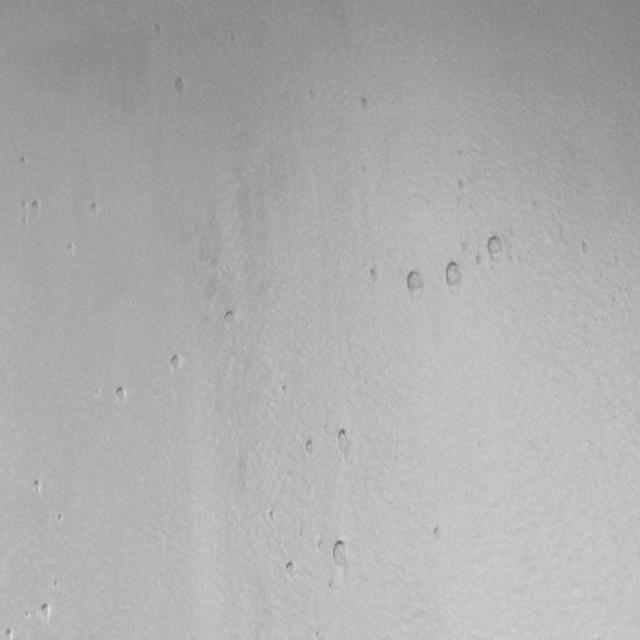pin holes: (481, 232, 508, 270), (441, 258, 465, 291), (403, 268, 427, 300), (328, 538, 350, 569), (332, 426, 351, 451), (171, 74, 189, 98), (365, 263, 383, 286), (358, 92, 376, 114), (166, 354, 184, 375), (576, 237, 592, 260), (223, 307, 240, 328), (114, 385, 130, 407), (304, 84, 321, 104), (28, 198, 44, 219), (40, 602, 55, 623), (303, 437, 318, 458), (266, 505, 281, 525), (285, 560, 299, 580), (30, 478, 44, 497), (88, 200, 102, 218), (432, 522, 445, 540), (64, 240, 76, 258), (18, 154, 32, 169), (278, 381, 290, 396), (326, 580, 338, 593), (55, 512, 66, 526), (52, 578, 63, 592), (91, 388, 103, 400), (4, 626, 15, 638), (22, 611, 32, 622)
